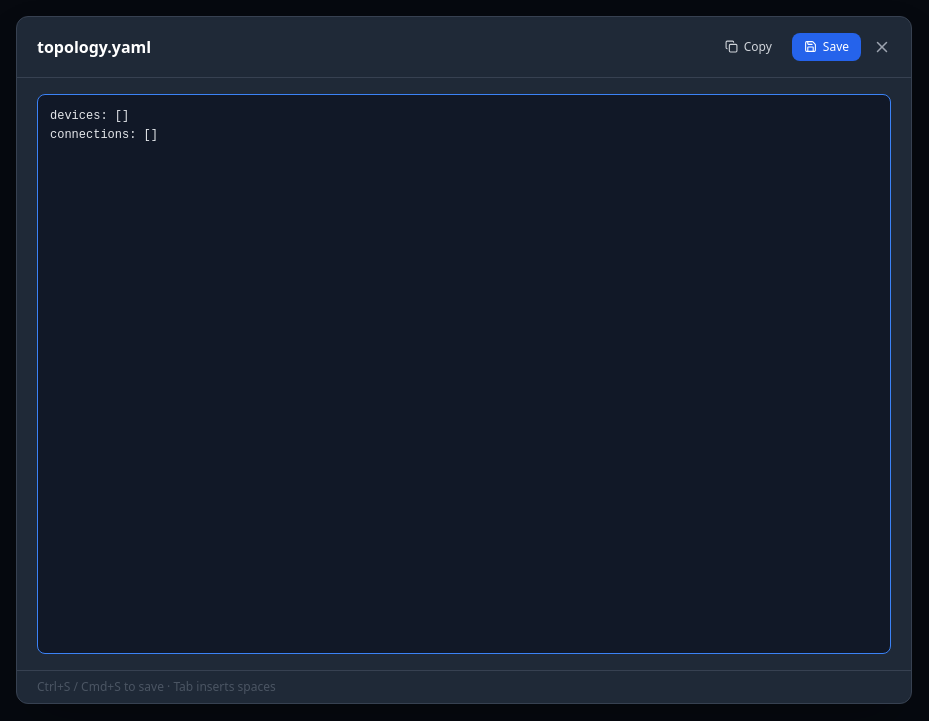
YamlModal › shows a save error inline without closing
Click the button "Save" at {"x": 826, "y": 47}, box x1=792 y1=33 x2=861 y2=61
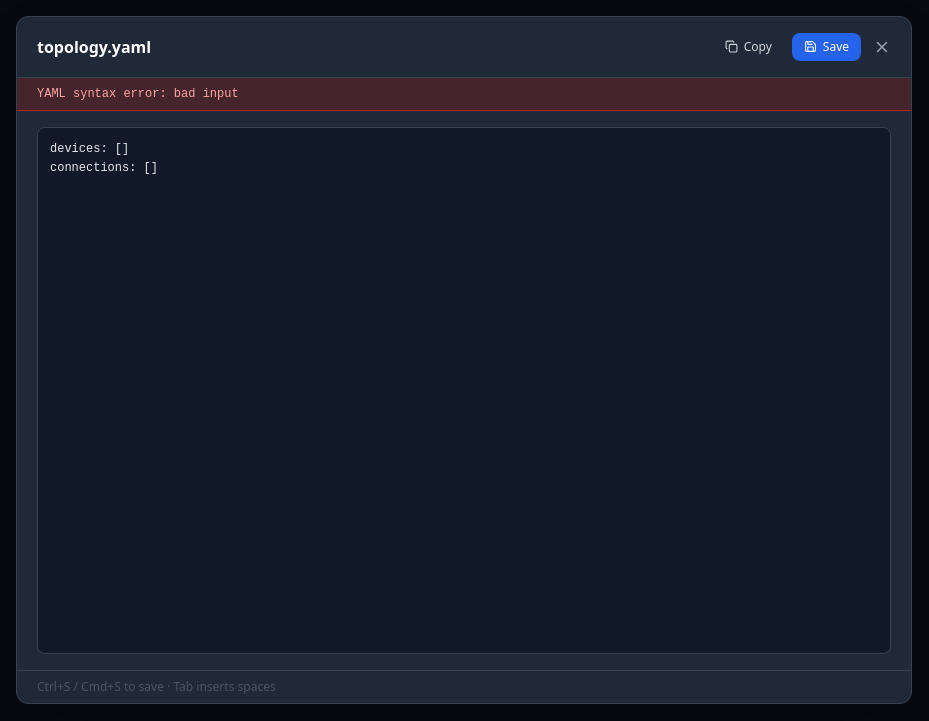
Expected: the text "YAML syntax error: bad input" is shown, x1=17 y1=78 x2=911 y2=111
